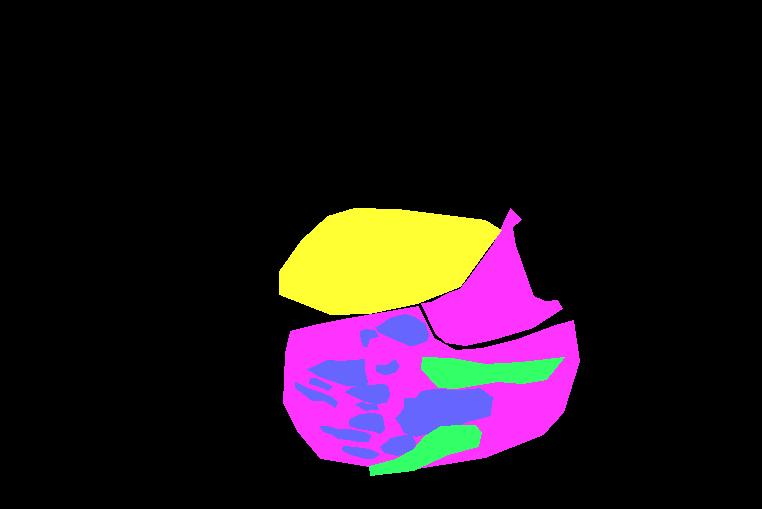Broken part: (369, 425, 481, 475), (421, 357, 564, 388)
Cracked: (279, 208, 501, 314)
Dent: (283, 306, 579, 471), (421, 208, 562, 345)
Scratch: (395, 388, 493, 436), (375, 314, 428, 345), (307, 359, 367, 386), (295, 382, 337, 407), (345, 384, 389, 403), (319, 426, 371, 441), (380, 434, 415, 455), (349, 413, 384, 433), (342, 446, 379, 458), (376, 359, 399, 374), (360, 329, 378, 346), (309, 378, 332, 390), (355, 402, 378, 410)
